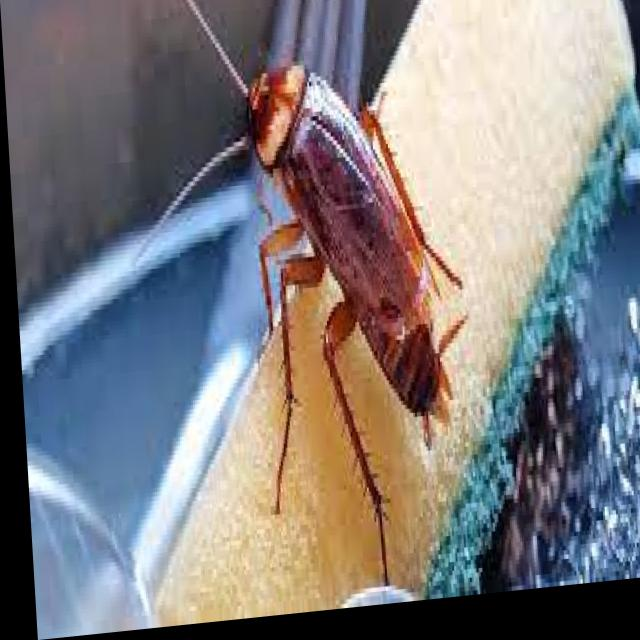Cockroach: (130, 0, 476, 620)
